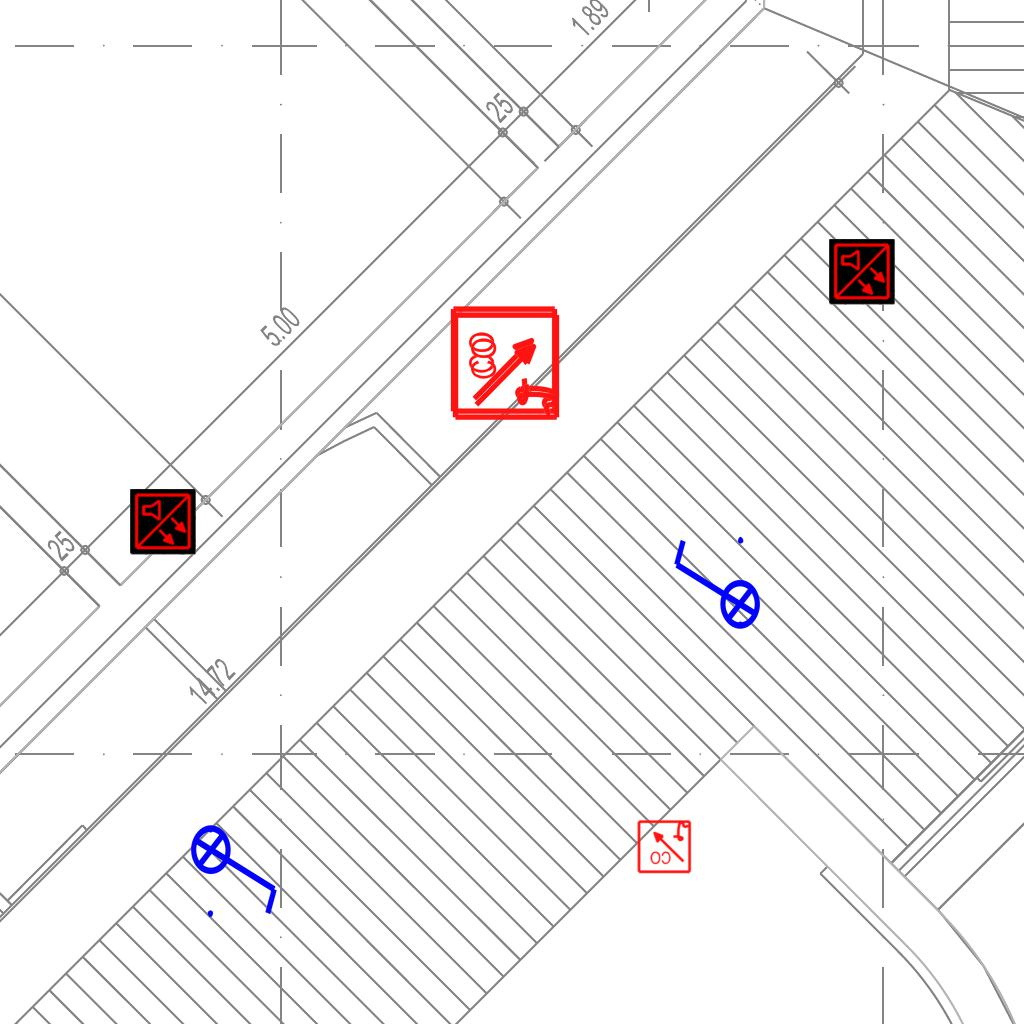Ausschalter_beleuchtet: (666, 531, 762, 643), (189, 811, 285, 923)
OKW_Multisensormelder_(Kombination_optischer_Rauch-Kahlenmonoxid_Waerme-Melder): (829, 239, 895, 305), (130, 489, 196, 555)
ROA_Rauchmelder_optisch_mit_Signalgeber_(Sockelsirene): (449, 303, 562, 416), (451, 309, 564, 422), (636, 818, 692, 874)
